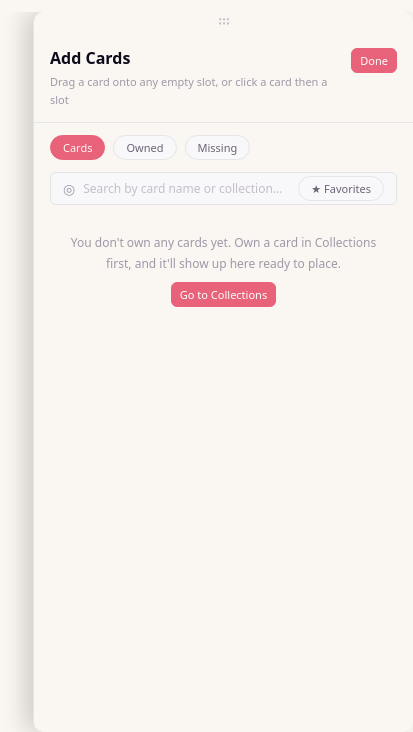
AddCardsPanel — empty-account state (real feature: a first-time user with zero owned cards anywhere) › does NOT show the empty-account message while actively searching, even with zero owned cards — a real search miss should show the search-specific message instea
The width and height of the screenshot is (413, 732).
Type "pikachu" into the field named "Search cards" at (183, 189), box [83, 173, 282, 204]
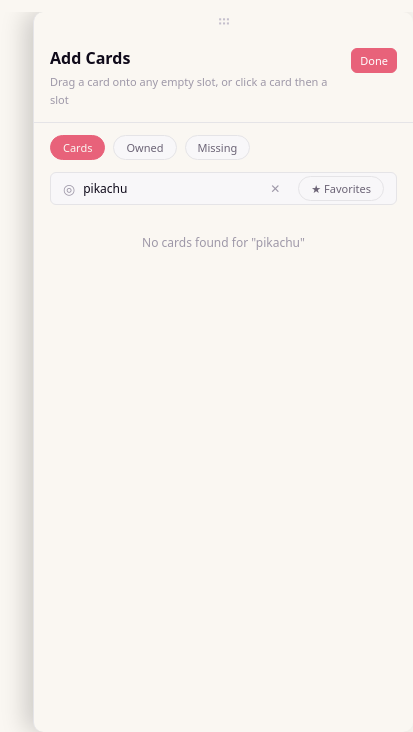
Expected: the text "No cards found for \"pikachu\"" is shown, [142, 234, 305, 251]
Expected: the text "You don't own any cards yet" is gone
